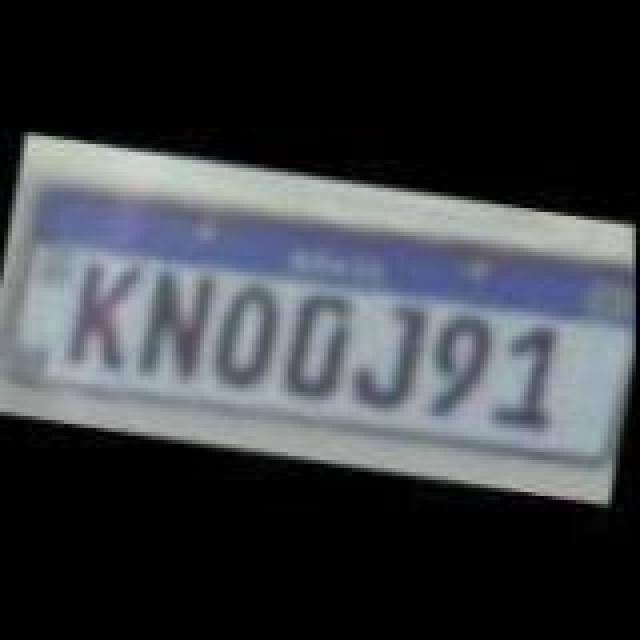1: (482, 316, 570, 436)
9: (408, 302, 496, 426)
D: (278, 292, 354, 408)
J: (342, 292, 434, 420)
K: (62, 254, 146, 378)
N: (126, 264, 218, 392)
O: (198, 270, 290, 394)
